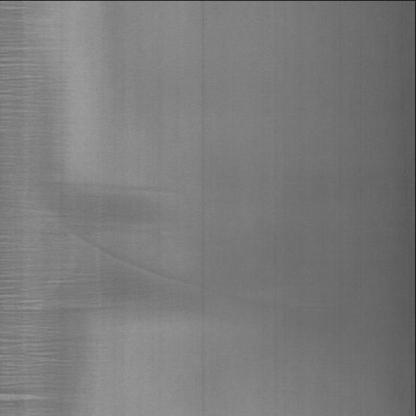waist_folding: (0, 58, 119, 401)
